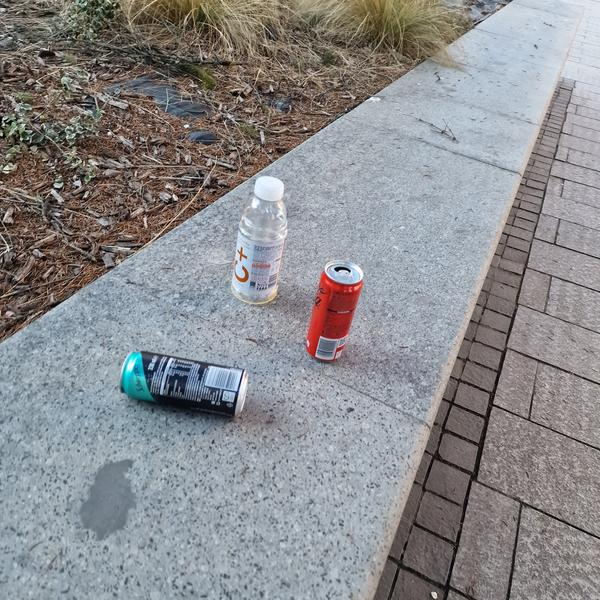can: (116, 347, 251, 419), (298, 254, 367, 366)
plastic_bottle: (226, 171, 295, 308)
